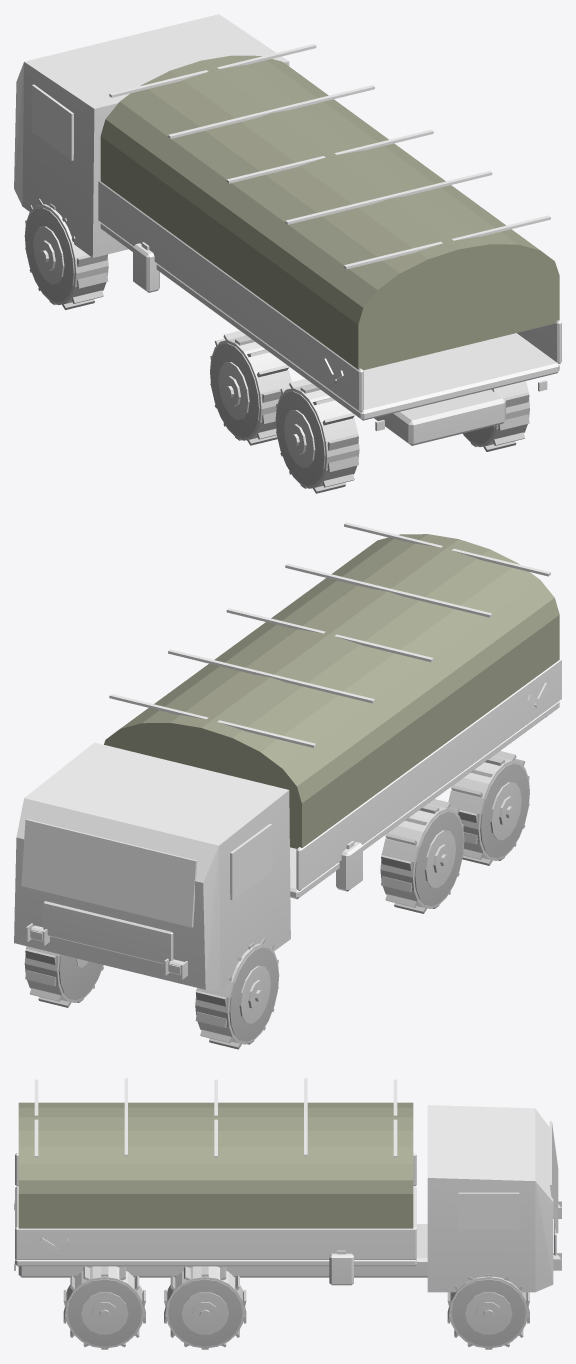
Rendered from truck_blue.glb.
3 renders of one model, top to bottom at view 1: azimuth 30°, elevation 25°; view 2: azimuth 150°, elevation 25°; view 3: azimuth 270°, elevation 25°, orthographic. The views are drawn at different scales.
Parts seen in each view (by area): view 1: body, wheel_4, wheel_2, wheel_0, wheel_5; view 2: body, wheel_2, wheel_4, wheel_0, wheel_1; view 3: body, wheel_3, wheel_5, wheel_1.
Part boxes in pixels (x1,y1,x2,y2): body: [14, 14, 561, 445]; wheel_4: [275, 378, 359, 493]; wheel_2: [210, 330, 291, 445]; wheel_0: [24, 198, 108, 309]; wheel_5: [463, 381, 529, 451]; body: [14, 522, 561, 990]; wheel_2: [380, 799, 464, 913]; wheel_4: [448, 751, 529, 865]; wheel_0: [195, 938, 279, 1049]; wheel_1: [24, 946, 103, 1007]; body: [14, 1078, 561, 1292]; wheel_3: [164, 1266, 246, 1349]; wheel_5: [63, 1266, 145, 1349]; wheel_1: [447, 1274, 529, 1349].
Size of the model in its own units: 2.68 by 3.01 by 7.64.
